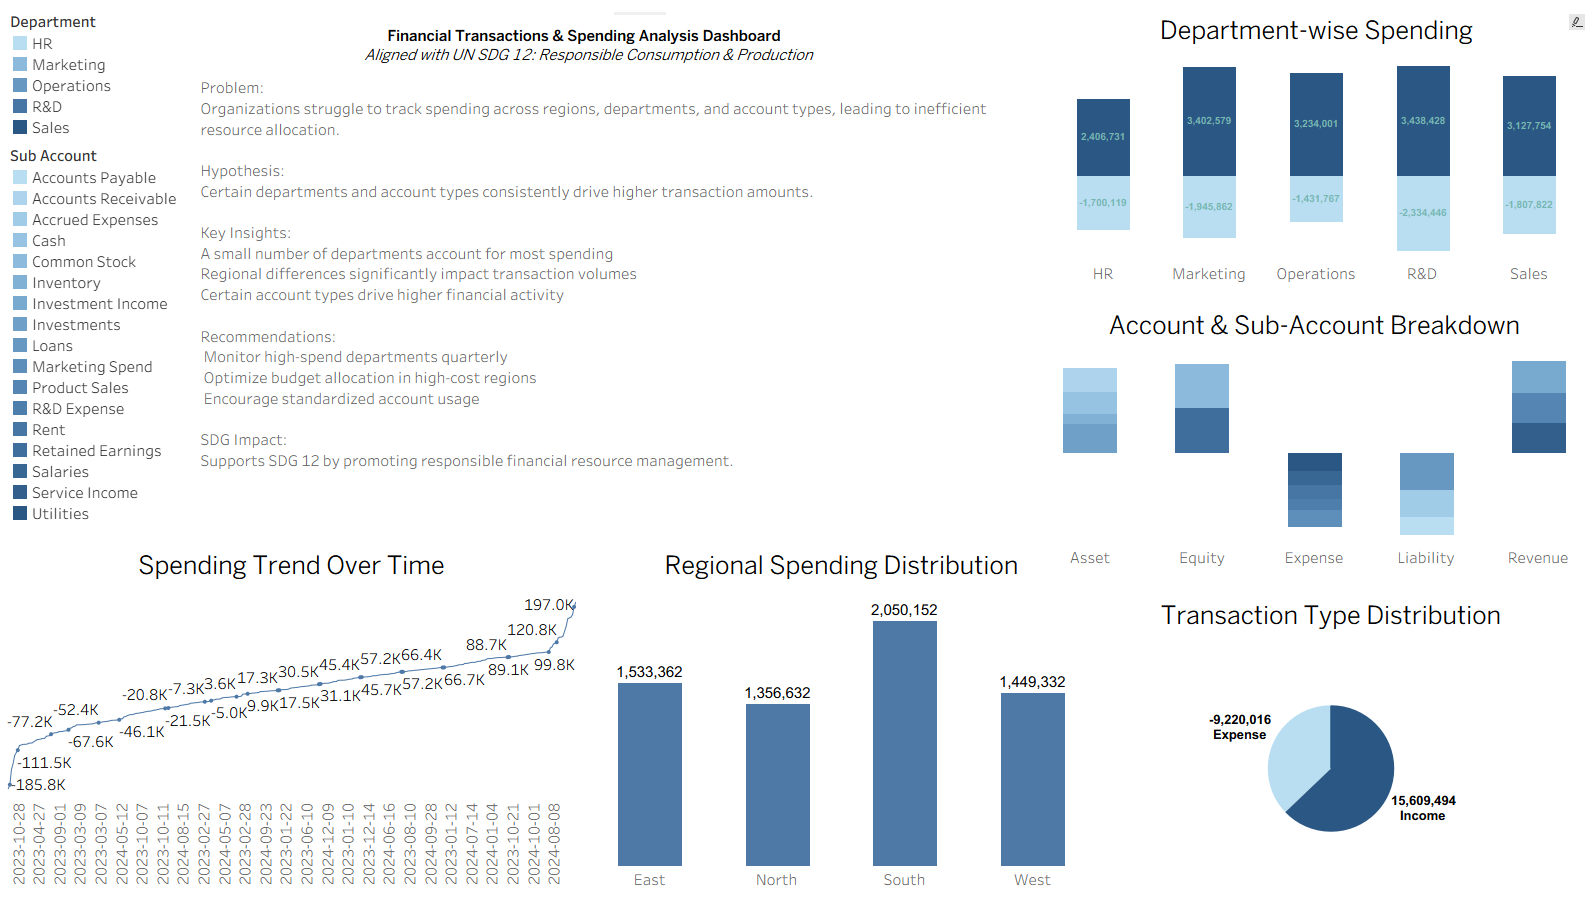

The dashboard page shown, as its layout file describes it:
{"tool":"tableau","page":{"name":"Dashboard","canvas":[1600,900],"ordinal":0},"visuals":[{"type":"legend","title":"Department","param":"[federated.0h7pi961evkprm17r9mgv07ag27j].[none:Department:nk]","box":[8,8,1584,884]},{"type":"worksheet","title":"Department-wise Spending","mark":"Automatic","rows":["Amount"],"cols":["Department"],"box":[1052,11,533,275]},{"type":"text","box":[160,13,852,67]},{"type":"worksheet","title":"Department","mark":"Automatic","box":[616,13,73,3]},{"type":"text","box":[199,79,819,418]},{"type":"legend","title":"Account & Sub-Account Breakdown","param":"[federated.0h7pi961evkprm17r9mgv07ag27j].[none:Sub_Account:nk]","box":[12,146,172,392]},{"type":"worksheet","title":"Account & Sub-Account Breakdown","mark":"Automatic","rows":["Amount"],"cols":["Account_Type"],"box":[1036,306,561,264]},{"type":"worksheet","title":"Spending Trend Over Time","mark":"Line","rows":["Amount"],"cols":["Date"],"box":[9,546,569,353]},{"type":"worksheet","title":"Regional Spending Distribution","mark":"Bar","rows":["Amount"],"cols":["Region"],"box":[588,546,511,346]},{"type":"worksheet","title":"Transaction Type Distribution","mark":"Pie","box":[1106,596,454,300]}]}

Visuals, with their boxes in screenshot pixels (x1, y1, x2, y2), scaled from the page's 1600x900 canvas onto the 1593x898 screenshot:
"Department" legend: x1=8, y1=8, x2=1585, y2=890
"Department-wise Spending" worksheet: x1=1047, y1=11, x2=1578, y2=285
text: x1=159, y1=13, x2=1008, y2=80
"Department" worksheet: x1=613, y1=13, x2=686, y2=16
text: x1=198, y1=79, x2=1014, y2=496
"Account & Sub-Account Breakdown" legend: x1=12, y1=146, x2=183, y2=537
"Account & Sub-Account Breakdown" worksheet: x1=1031, y1=305, x2=1590, y2=569
"Spending Trend Over Time" worksheet (Line marks): x1=9, y1=545, x2=575, y2=897
"Regional Spending Distribution" worksheet (Bar marks): x1=585, y1=545, x2=1094, y2=890
"Transaction Type Distribution" worksheet (Pie marks): x1=1101, y1=595, x2=1553, y2=894
